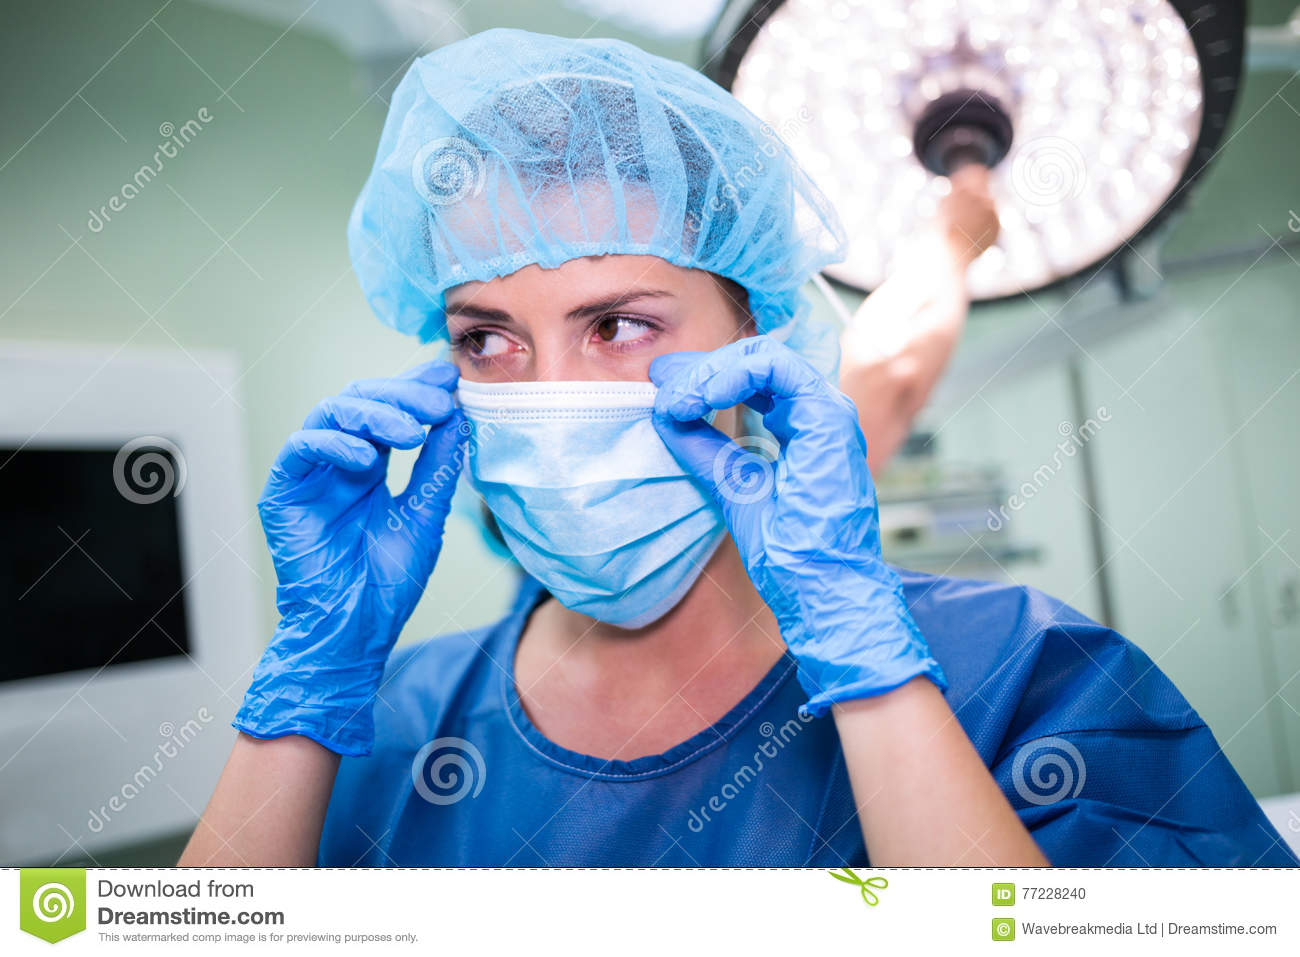mask: (433, 377, 736, 645)
